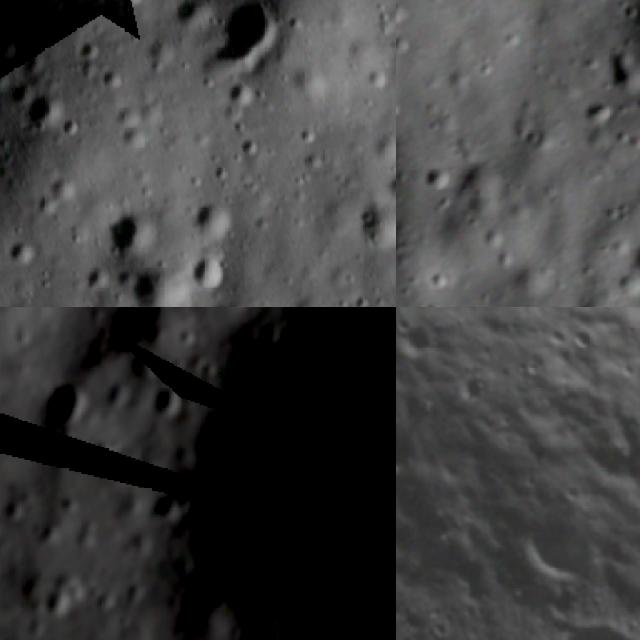crater: (86, 307, 396, 640), (490, 477, 617, 604), (17, 362, 108, 453), (517, 589, 640, 640), (205, 0, 285, 66), (396, 398, 445, 501), (20, 567, 89, 636), (79, 364, 145, 430), (134, 379, 195, 441), (134, 483, 189, 538), (396, 307, 442, 372), (117, 267, 183, 307), (131, 307, 263, 326), (106, 206, 154, 257), (447, 364, 495, 412), (56, 518, 104, 565), (18, 511, 65, 558), (17, 88, 69, 130), (189, 197, 235, 243), (78, 432, 124, 478), (0, 405, 36, 462), (185, 352, 229, 397), (604, 36, 640, 88), (0, 489, 32, 536), (188, 254, 227, 292), (161, 317, 200, 355), (170, 0, 210, 32), (422, 160, 460, 193), (225, 77, 256, 112), (0, 19, 20, 64), (110, 610, 136, 636), (383, 171, 396, 202), (200, 299, 242, 307)
